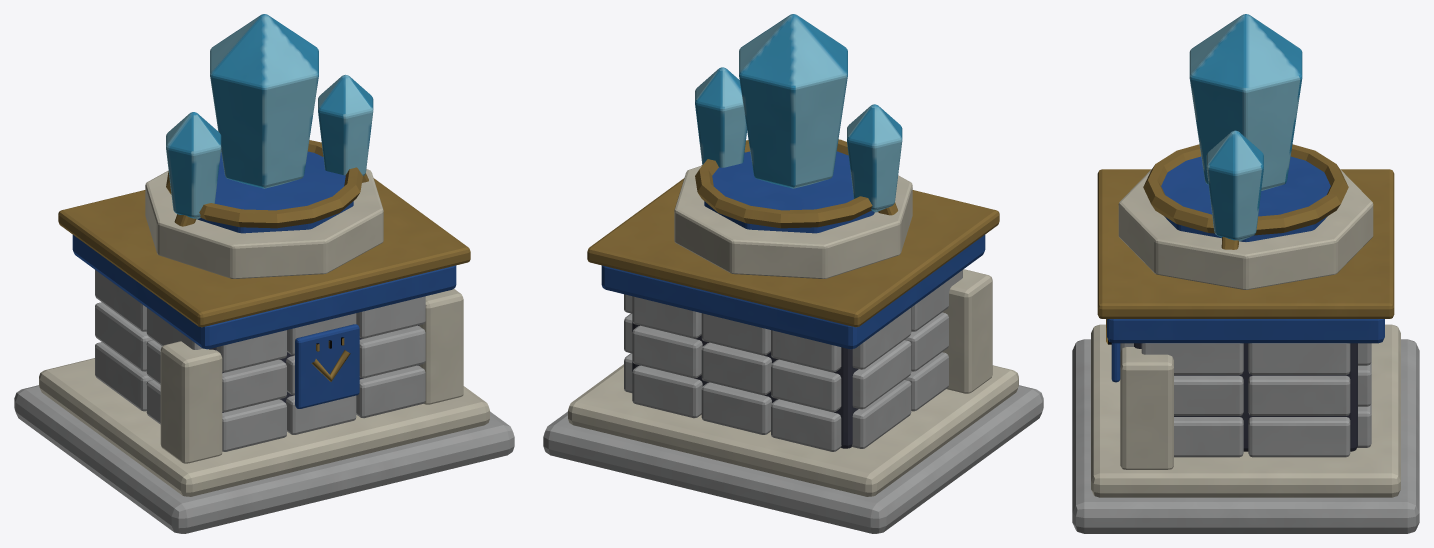
The model's file is frost_tower_low.glb.
3 views of the same model, side by side, from view 1: azimuth 30°, elevation 25°; view 2: azimuth 150°, elevation 25°; view 3: azimuth 270°, elevation 25° (orthographic). The views are drawn at different scales.
Parts seen in each view (by area): view 1: frost_tower_low_surface; view 2: frost_tower_low_surface; view 3: frost_tower_low_surface.
Boxes of the visible parts, x1,y1,x2,y2 form: frost_tower_low_surface: (14,14,514,533); frost_tower_low_surface: (543,14,1043,533); frost_tower_low_surface: (1072,14,1419,533).
Size of the model in its own units: 1.53 by 1.81 by 1.3.
Materials: 1 (1 with a texture image).
